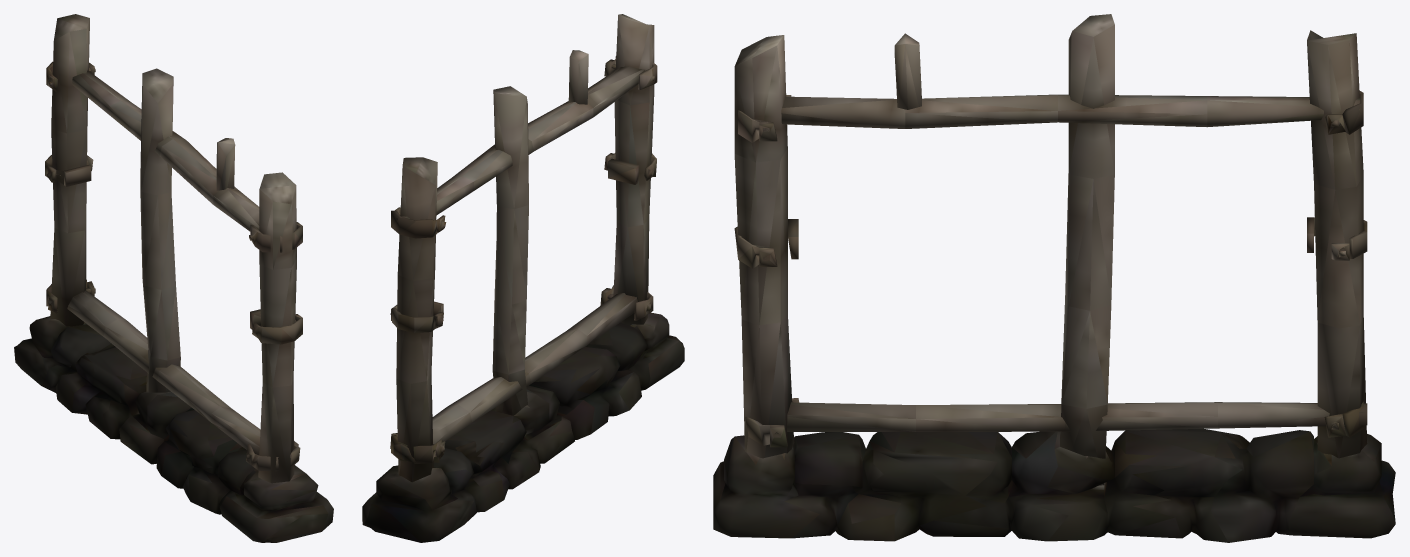
The model's file is fence-run-a.glb.
3 renders of one model, left to right at view 1: azimuth 30°, elevation 25°; view 2: azimuth 150°, elevation 25°; view 3: azimuth 270°, elevation 25°, orthographic. The views are drawn at different scales.
Visible parts, largest first — view 1: tripo_part_1; view 2: tripo_part_1; view 3: tripo_part_1.
Part boxes in pixels (x1,y1,x2,y2): tripo_part_1: (14, 14, 333, 542); tripo_part_1: (362, 14, 684, 542); tripo_part_1: (713, 14, 1395, 542).
Bounding box in the file's own units: 0.0763 × 0.3014 × 0.3757.
1 material, 1 textured.
